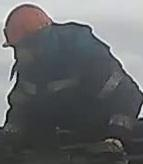helmet: (2, 3, 53, 49)
vest: (8, 21, 131, 130)
